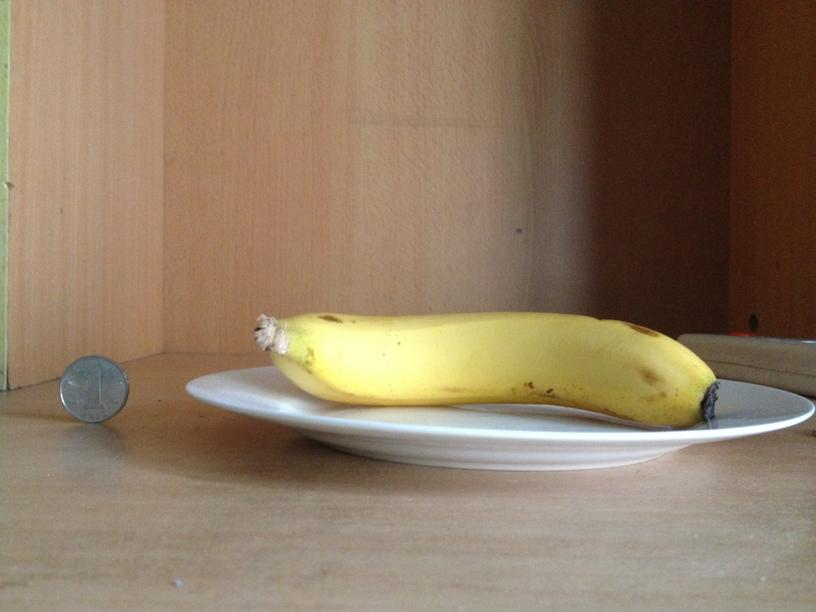banana: (276, 312, 712, 427)
coin: (58, 352, 131, 424)
